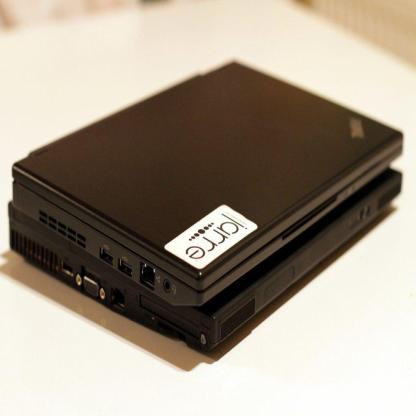board: (13, 64, 404, 304), (8, 164, 403, 352)
